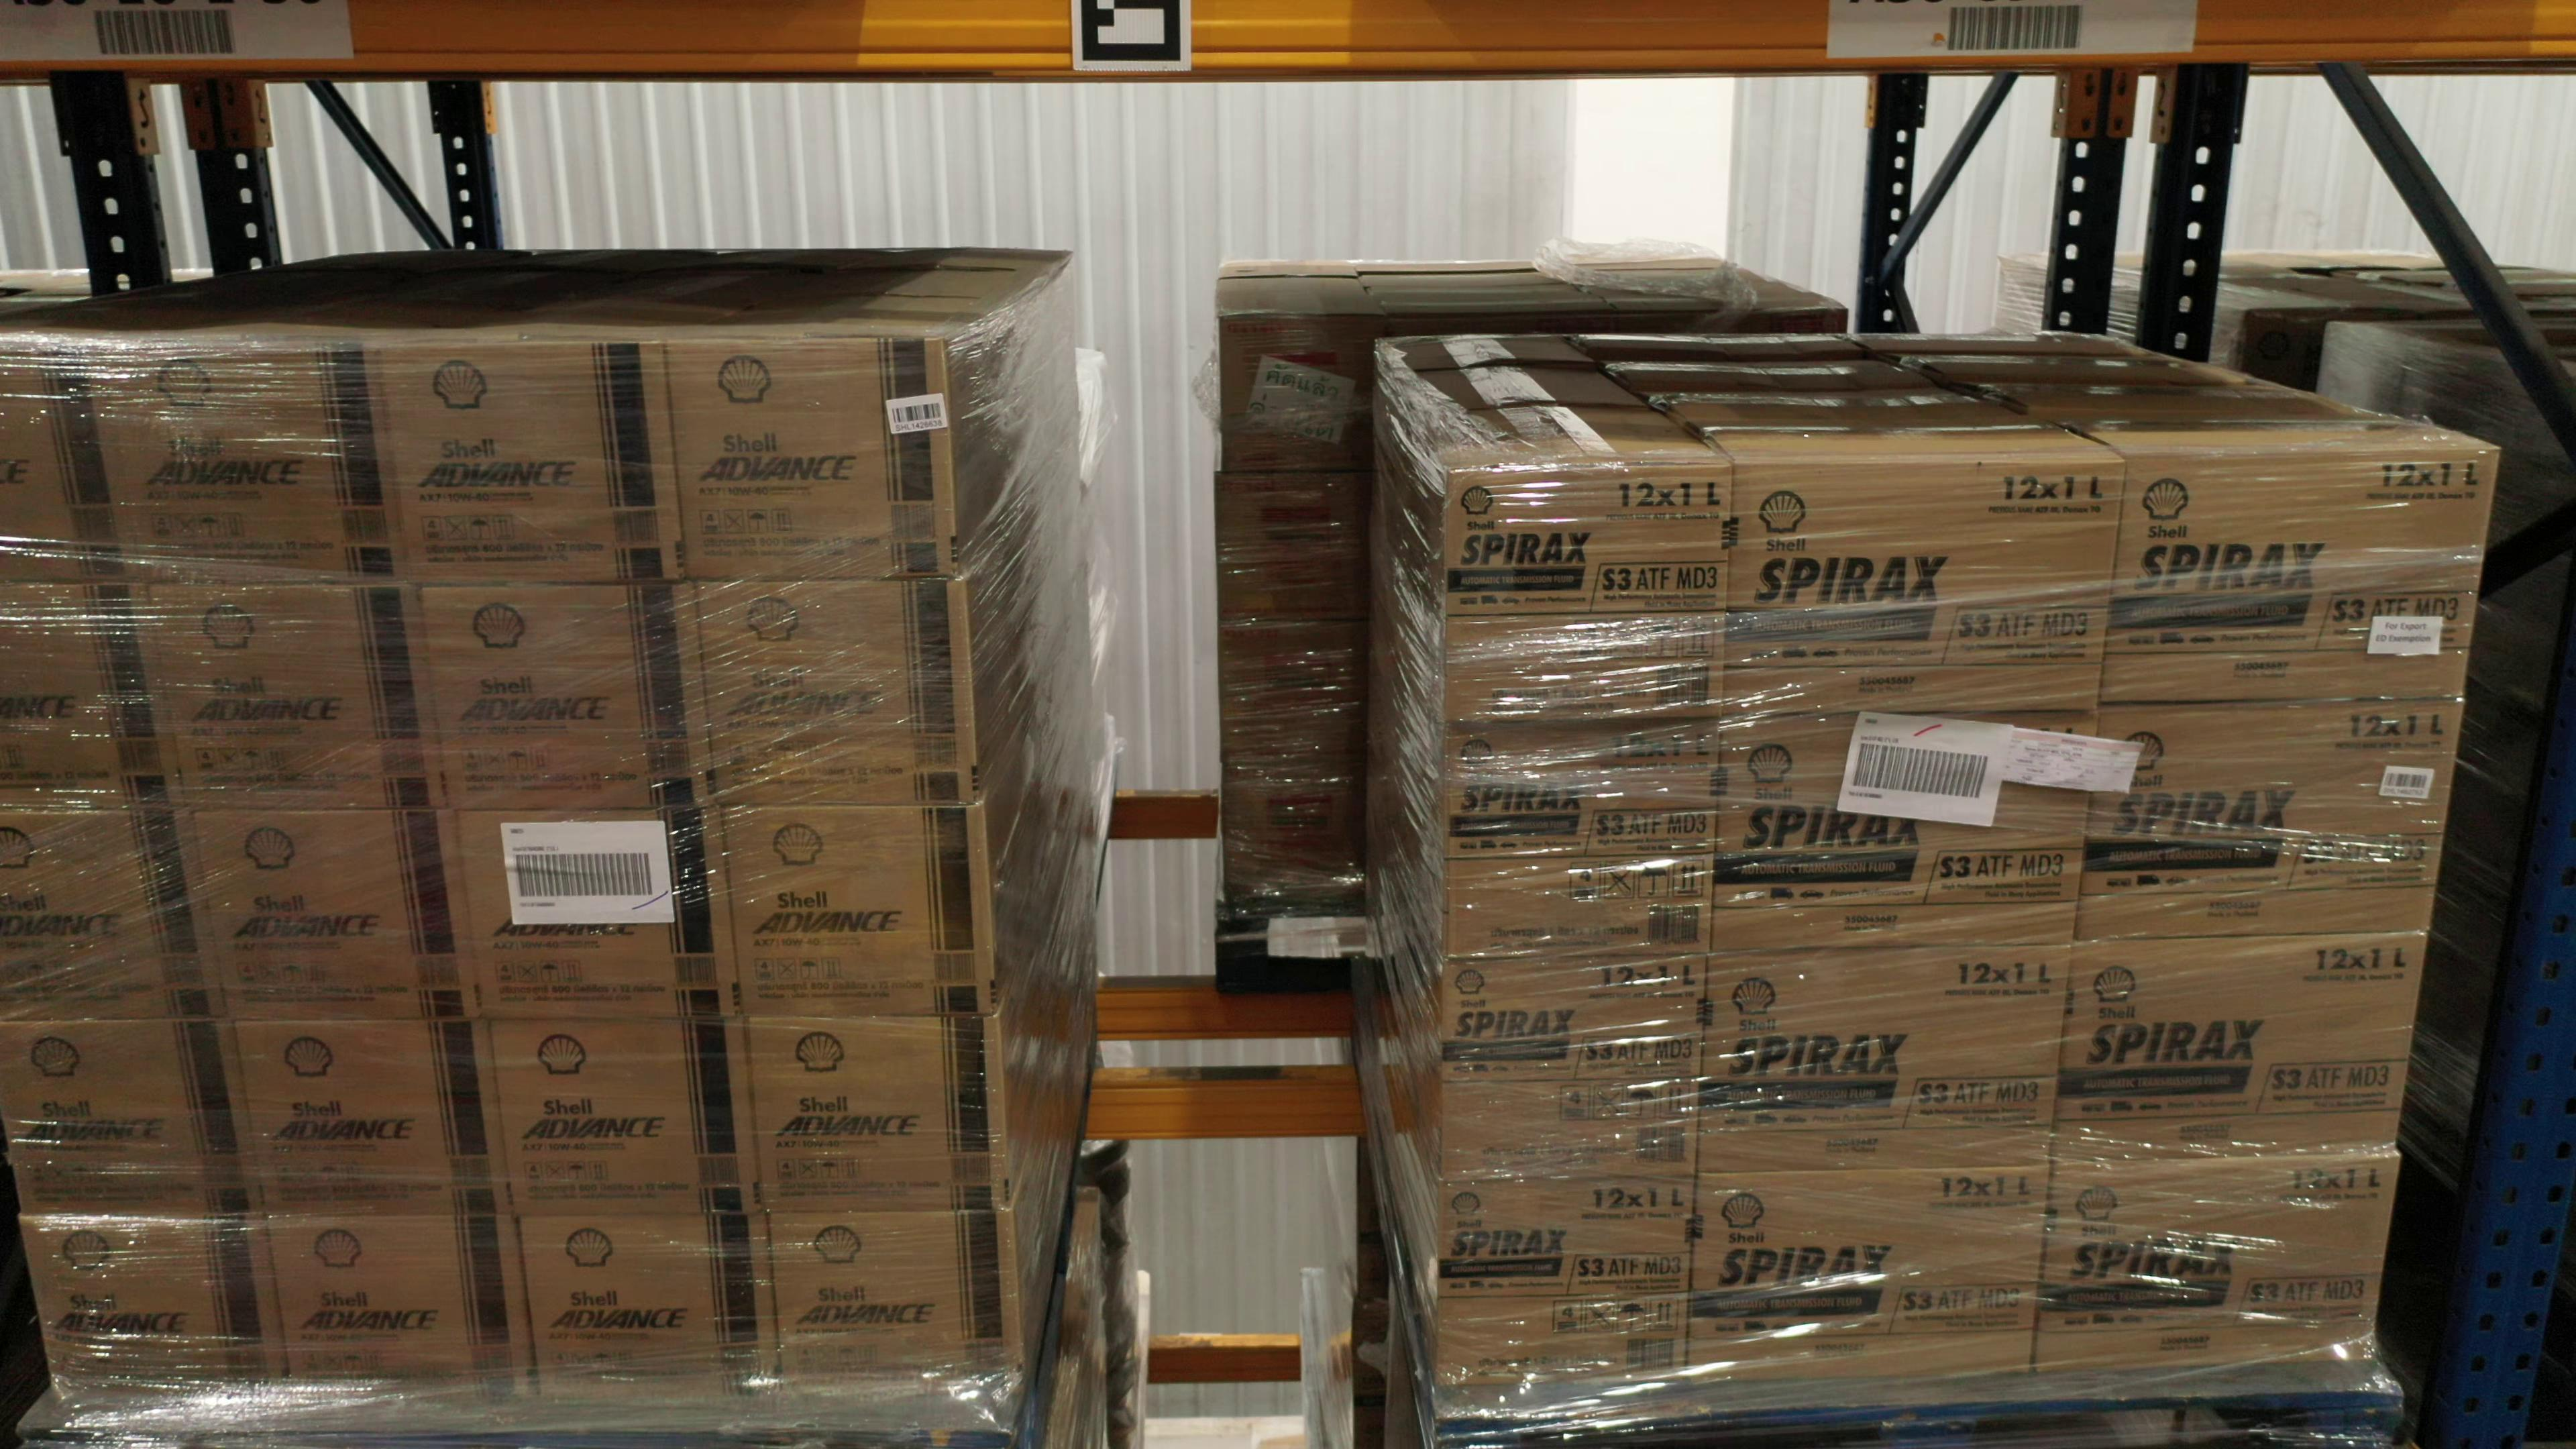-: (1723, 456, 2127, 715), (2104, 448, 2502, 702), (2075, 702, 2465, 948), (1714, 704, 2098, 950), (2056, 932, 2429, 1168), (1697, 939, 2074, 1169), (2033, 1154, 2397, 1375), (1690, 1164, 2056, 1380), (101, 340, 416, 587), (1442, 464, 1736, 718), (387, 340, 688, 584), (662, 336, 959, 579), (150, 584, 455, 816), (421, 579, 720, 814), (1447, 718, 1723, 964), (692, 577, 977, 812), (451, 807, 743, 1024), (1442, 950, 1709, 1180), (195, 810, 481, 1023), (722, 805, 1000, 1023), (1435, 1175, 1697, 1396), (235, 1017, 511, 1221), (490, 1017, 764, 1221), (5, 1017, 269, 1226), (748, 1014, 1014, 1214), (264, 1212, 533, 1405), (518, 1214, 782, 1401), (25, 1217, 295, 1399), (768, 1210, 1024, 1401), (0, 810, 228, 1024), (0, 584, 188, 812), (0, 341, 145, 587)
box: (1217, 308, 1380, 472), (1214, 467, 1378, 628), (1219, 626, 1371, 773), (1221, 768, 1369, 904)
